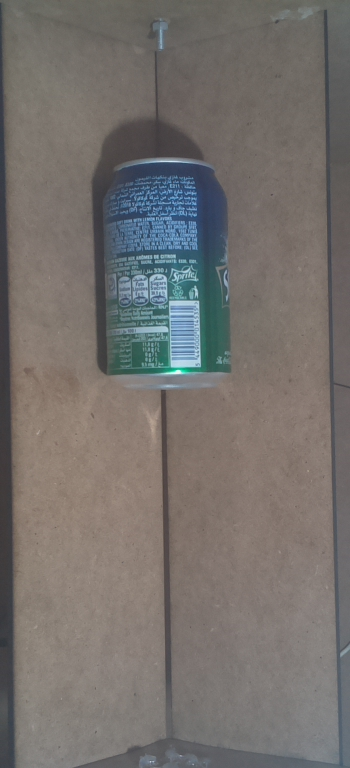Canette: (92, 149, 243, 399)
